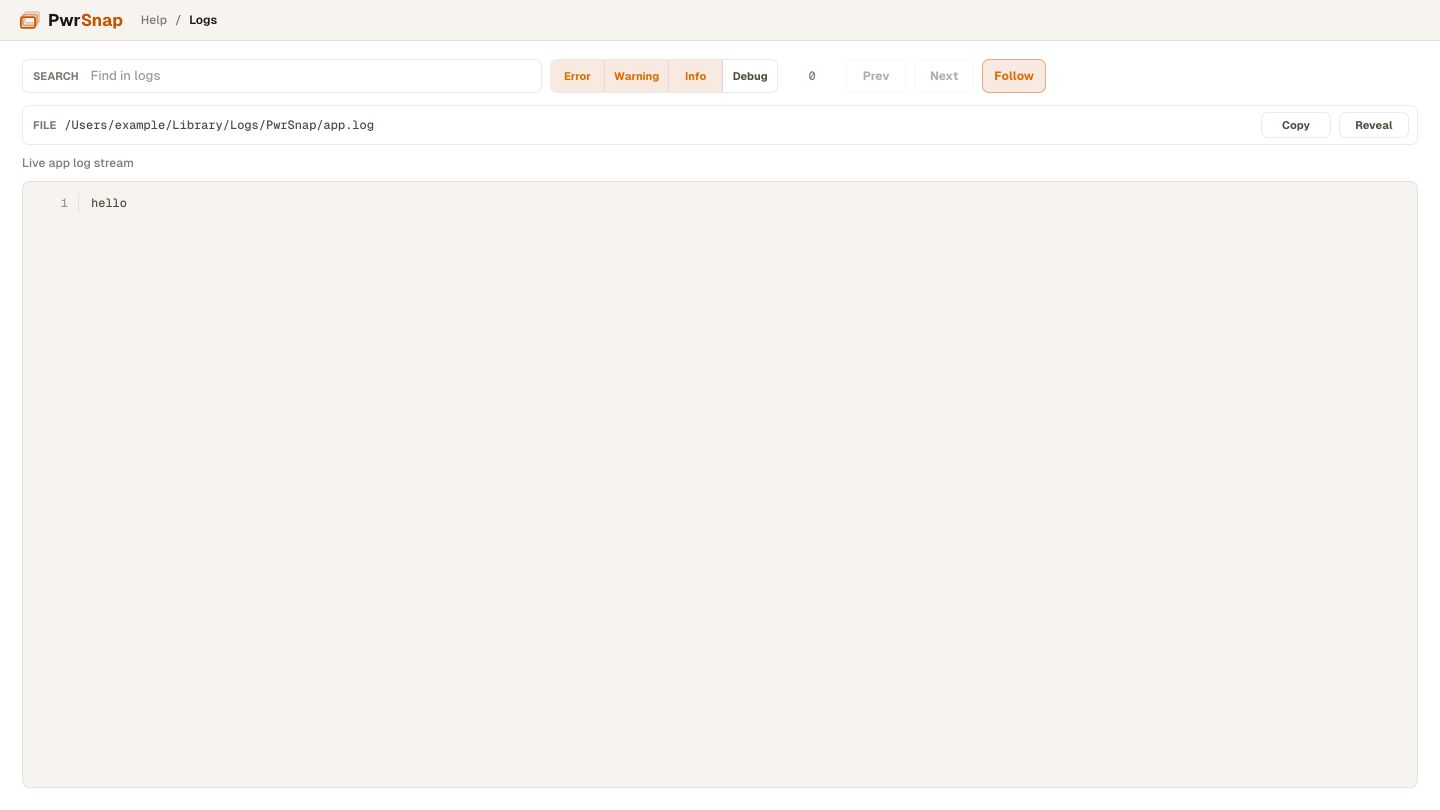
Test: LogsWindow log file copy › copies the log file path through clipboard:copyText and flips the button to Copied
The image size is (1440, 810).
Click the button with class "log-window__file-action" showing "Copy" at [1296, 125], box [1261,112,1331,138]
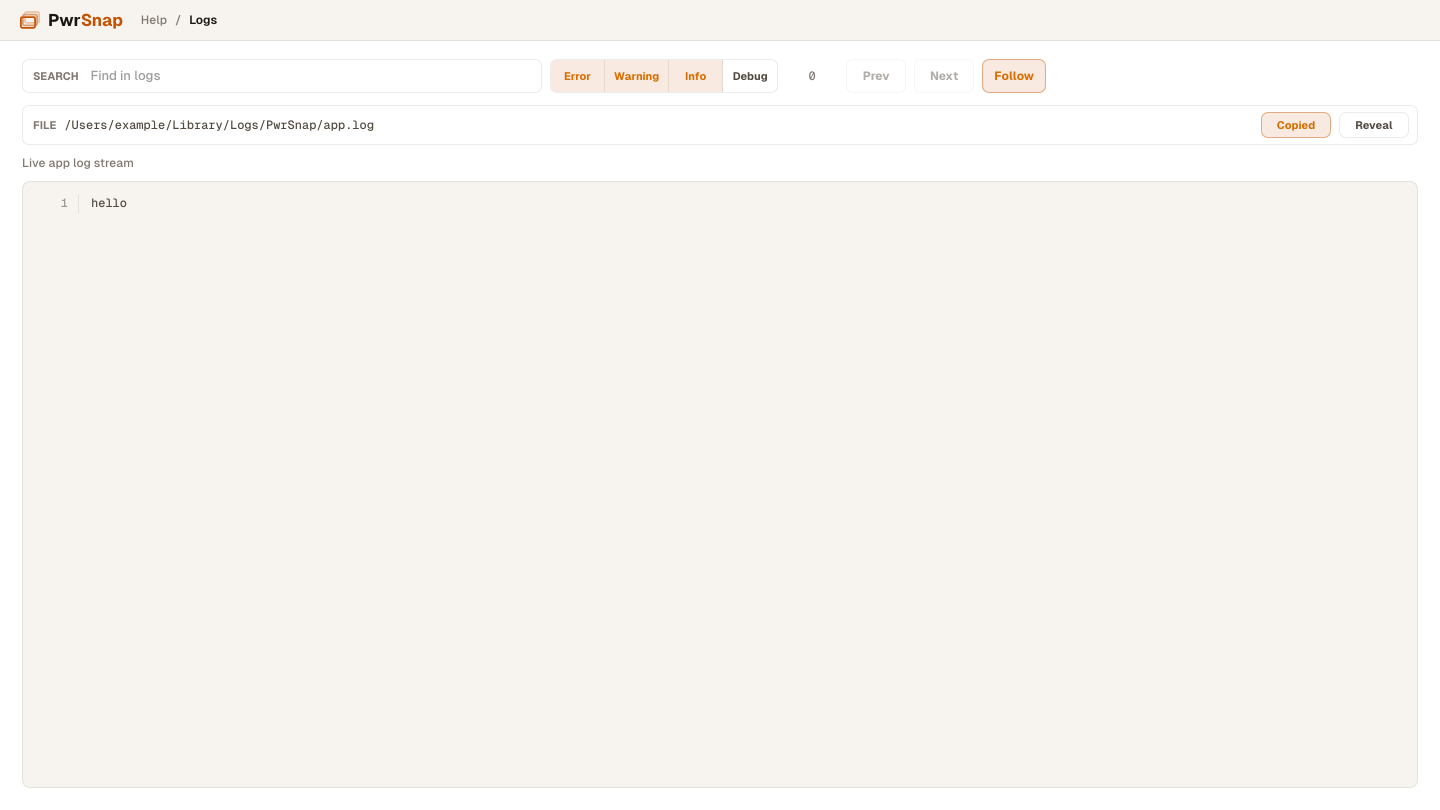
Expected: the button with class "log-window__file-action" reads "Copied", [1261,112,1331,138]
